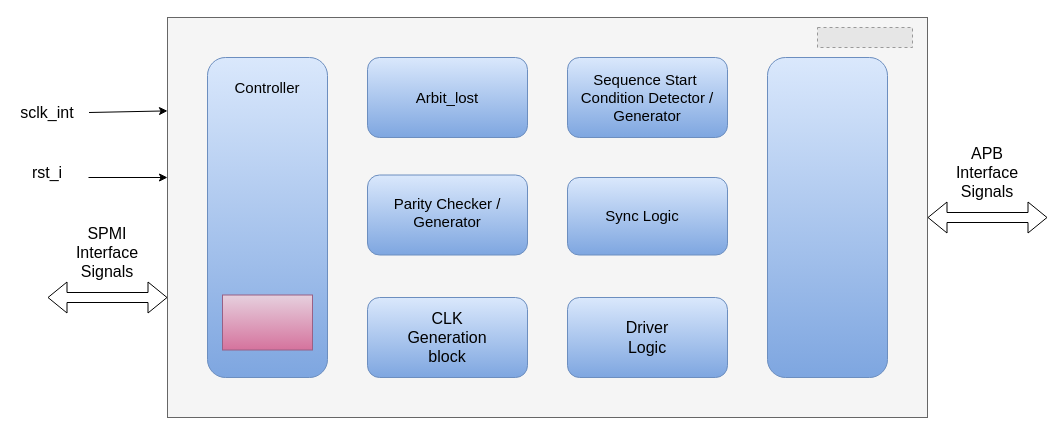
Image size: 1064x435. Some labels were removed from this diagram. Grey dashed boxes stand in for pictures. The centre of each missing label's shape, as x and y in pixels:
"APB Interface" goes at point 827,217.
"Operating States" goes at point 267,322.
